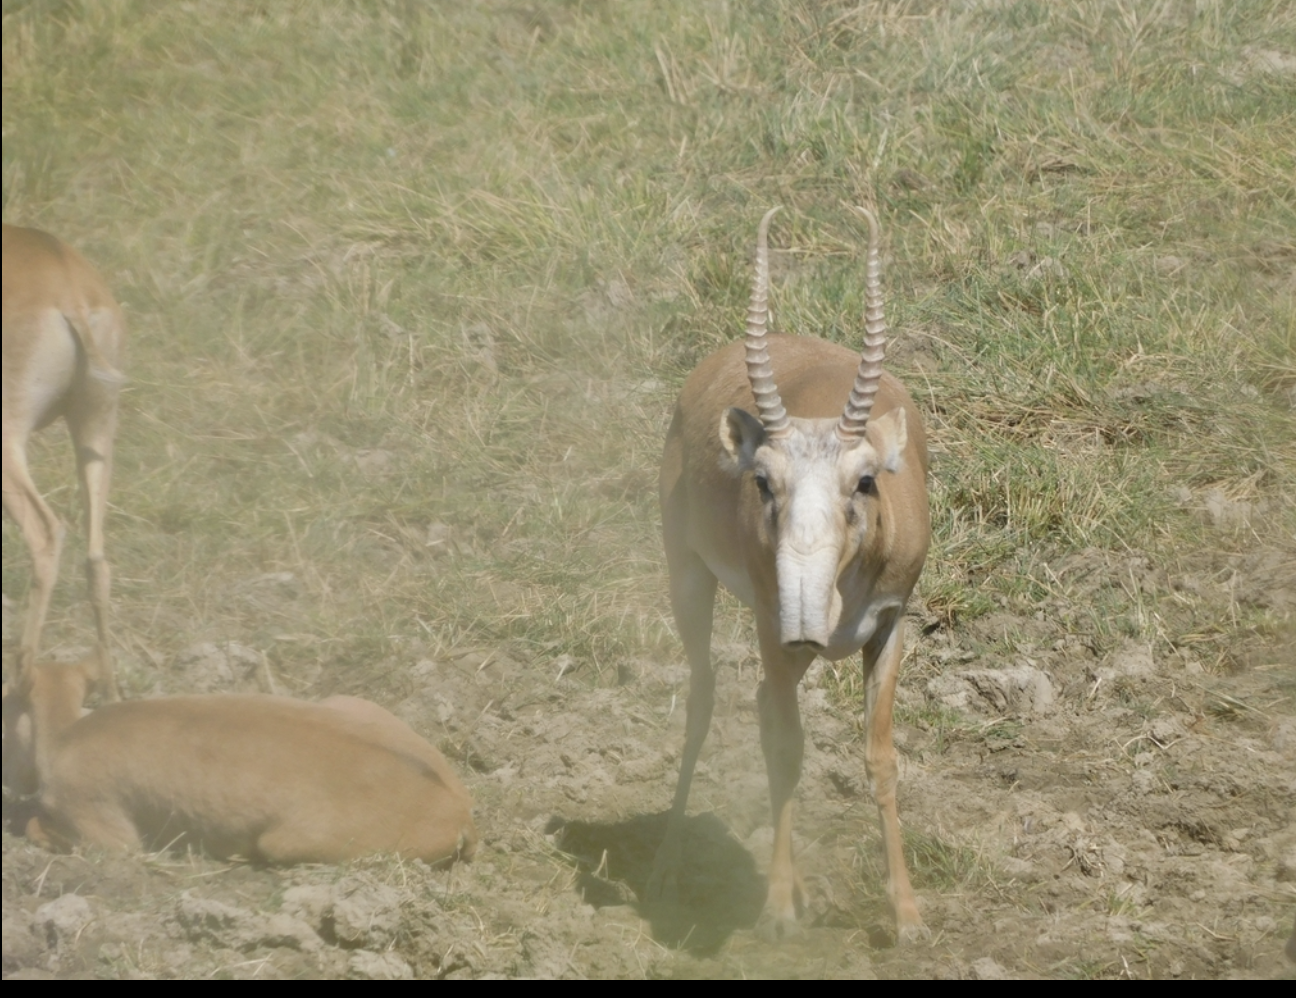saiga: (574, 180, 946, 938)
